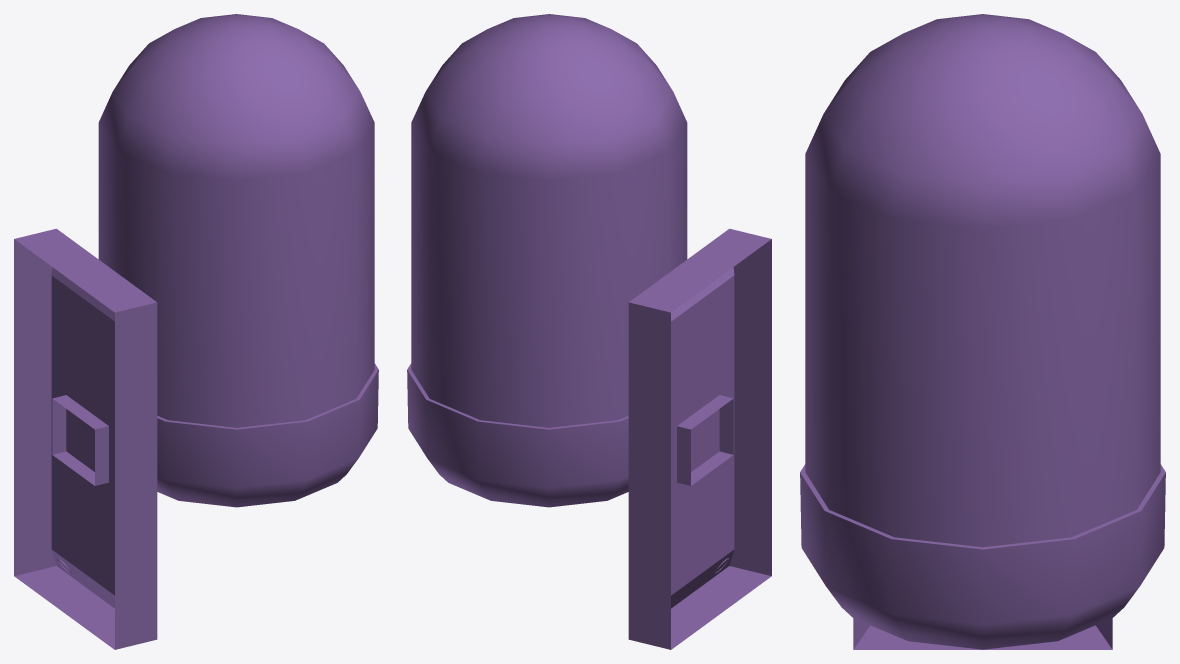
Rendered from POINT.fbx.
3 renders of one model, left to right at view 1: azimuth 30°, elevation 25°; view 2: azimuth 150°, elevation 25°; view 3: azimuth 270°, elevation 25°, orthographic. The views are drawn at different scales.
Visible parts, largest first — view 1: GLASS, MECH; view 2: GLASS, MECH; view 3: GLASS, MECH.
Part boxes in pixels (x1,y1,x2,y2): GLASS: [98, 14, 374, 427]; MECH: [14, 228, 378, 649]; GLASS: [411, 14, 687, 427]; MECH: [407, 228, 771, 649]; GLASS: [805, 14, 1160, 547]; MECH: [800, 464, 1165, 649].
Bounding box in the file's own units: 50.05 × 88.12 × 41.69.
